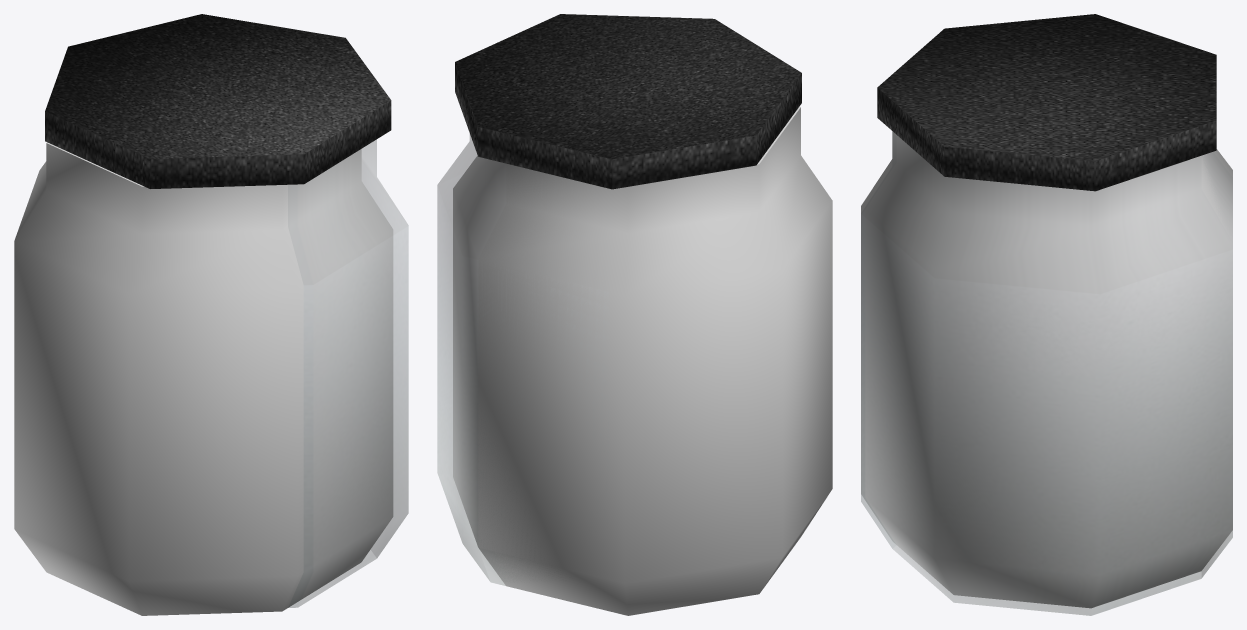
Rendered from Jar.fbx.fbx.
3 views of the same model, side by side, from view 1: azimuth 30°, elevation 25°; view 2: azimuth 150°, elevation 25°; view 3: azimuth 270°, elevation 25° (orthographic).
Visible parts, largest first — view 1: Botella; view 2: Botella; view 3: Botella.
Part boxes in pixels (bbox=[...]): Botella: bbox=[14, 14, 408, 615]; Botella: bbox=[437, 14, 832, 615]; Botella: bbox=[861, 14, 1232, 615].
Bounding box in the file's own units: 33.16 × 42.24 × 30.87.
22 materials, 20 textured.
